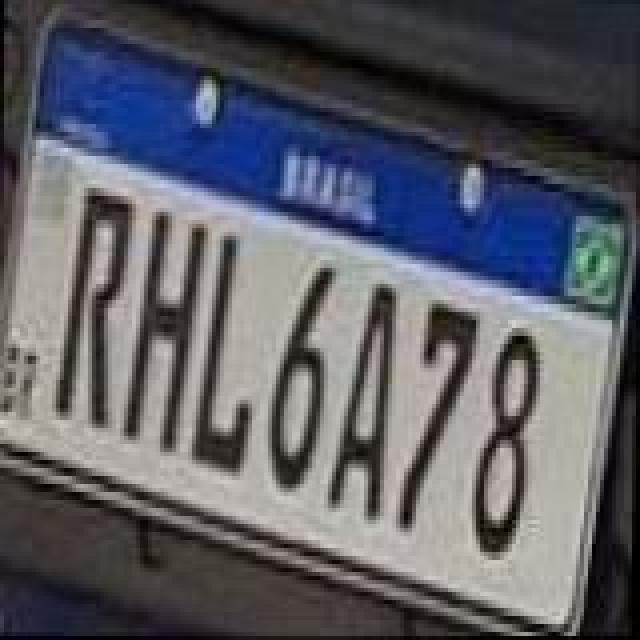6: (264, 262, 336, 494)
7: (394, 300, 478, 540)
8: (472, 330, 544, 562)
A: (328, 282, 400, 522)
H: (124, 210, 208, 458)
L: (194, 228, 258, 476)
R: (54, 184, 134, 432)
